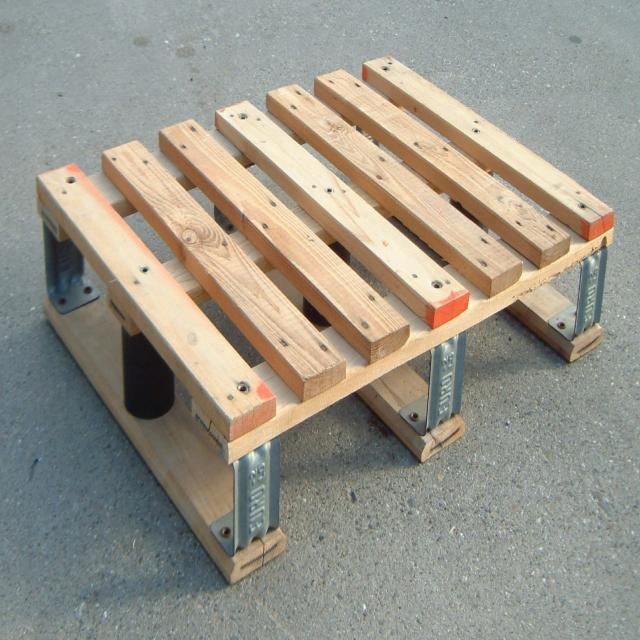Palette: (24, 49, 621, 589)
